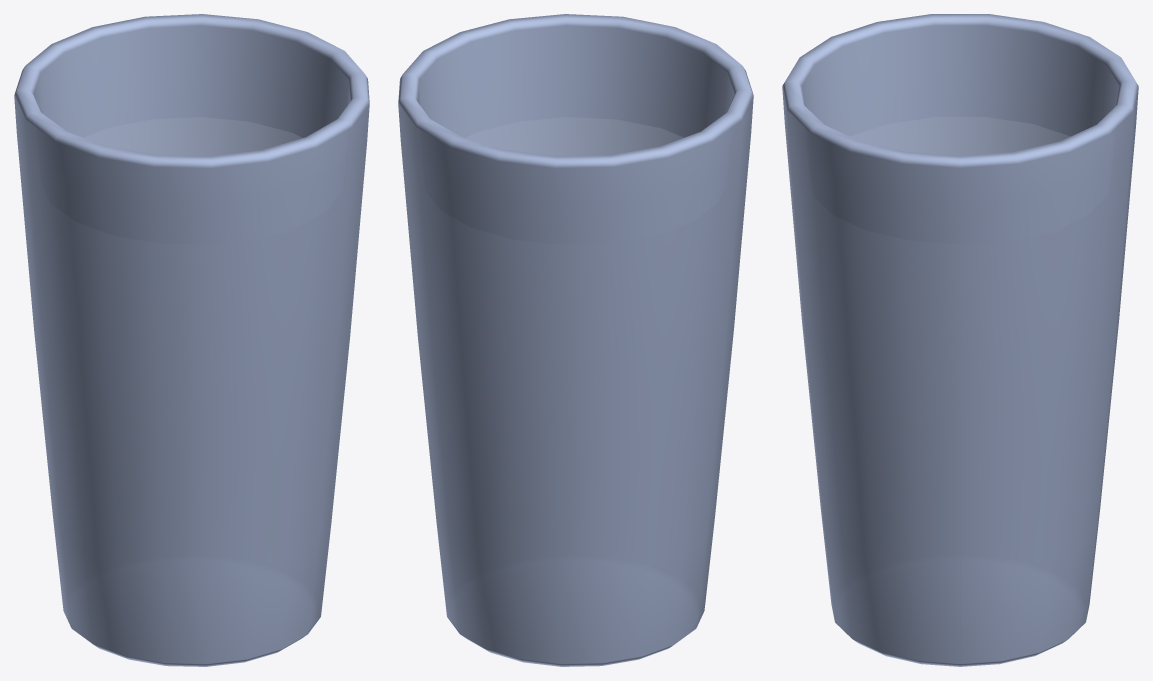
The model's file is milk.fbx.
3 renders of one model, left to right at view 1: azimuth 30°, elevation 25°; view 2: azimuth 150°, elevation 25°; view 3: azimuth 270°, elevation 25°, orthographic.
Parts seen in each view (by area): view 1: copo_low_01; view 2: copo_low_01; view 3: copo_low_01.
Boxes of the visible parts, x1,y1,x2,y2 form: copo_low_01: [14, 14, 369, 666]; copo_low_01: [398, 14, 753, 666]; copo_low_01: [782, 14, 1138, 666].
Bounding box in the file's own units: 5.84 × 9.59 × 5.86.
